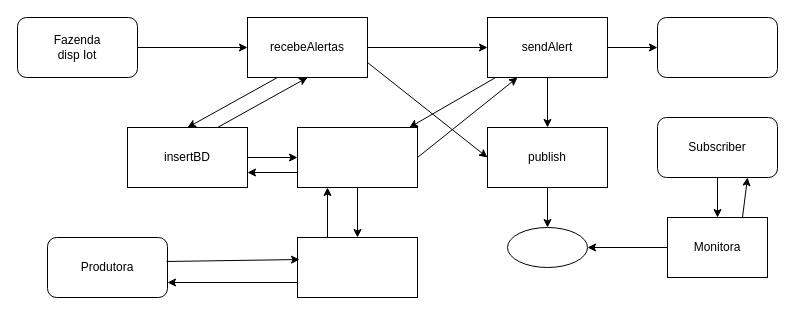
Image size: 795x315. Some labels were removed from this diagram. Here are the shapes that lost their labels. From the top down, the centre of each, then its label:
point (717, 47): Proprietario
point (357, 157): getBD
point (357, 267): historico
point (547, 247): File
